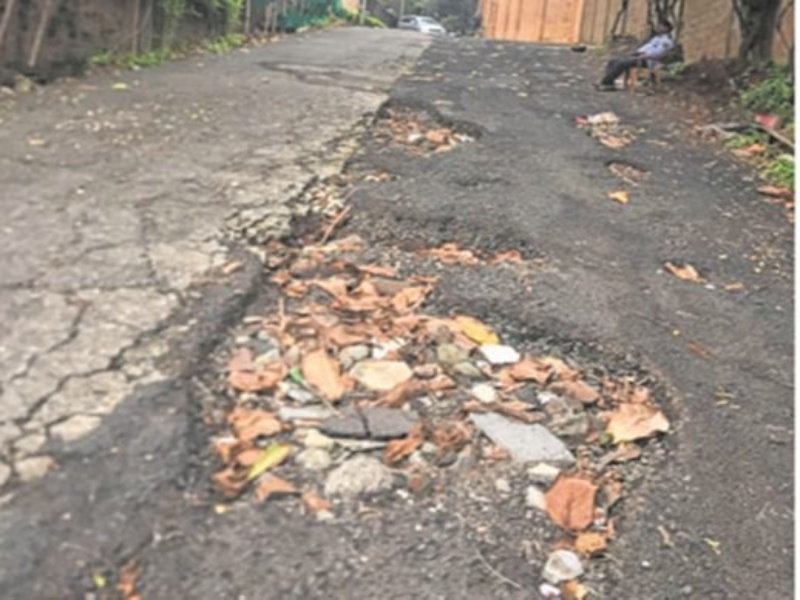pothole: (194, 202, 686, 559), (366, 93, 493, 161), (600, 153, 645, 192)
